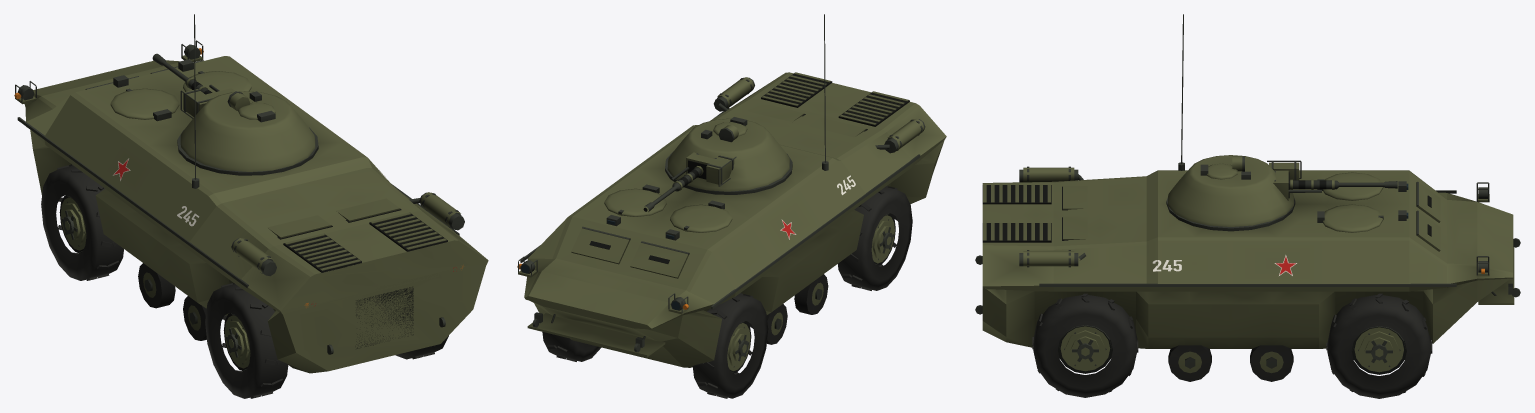
The model's file is brdm2.glb.
The picture shows the model from 3 angles, left to right: view 1: azimuth 30°, elevation 25°; view 2: azimuth 150°, elevation 25°; view 3: azimuth 270°, elevation 25°; orthographic projection. The views are drawn at different scales.
Visible parts, largest first — view 1: Hull_BRDM2_Paint, LeftTrack_Motion_BRDM2_Rubber, TurretYaw_BRDM2_Paint, Hull_BRDM2_DarkSteel, Hull_BRDM2_Cavity, LeftTrack_Motion_BRDM2_Paint, Hull_BRDM2_Rubber, LeftTrack_Motion_BRDM2_DarkSteel, GunPitch_BRDM2_Paint; view 2: Hull_BRDM2_Paint, LeftTrack_Motion_BRDM2_Rubber, TurretYaw_BRDM2_Paint, Hull_BRDM2_DarkSteel, Hull_BRDM2_Cavity, LeftTrack_Motion_BRDM2_Paint, Hull_BRDM2_Rubber, RightTrack_Motion_BRDM2_Rubber, GunPitch_BRDM2_Paint, LeftTrack_Motion_BRDM2_DarkSteel, BarrelRecoil_BRDM2_DarkSteel, TurretYaw_BRDM2_DarkSteel; view 3: Hull_BRDM2_Paint, RightTrack_Motion_BRDM2_Rubber, TurretYaw_BRDM2_Paint, Hull_BRDM2_DarkSteel, RightTrack_Motion_BRDM2_Paint, Hull_BRDM2_Cavity, Hull_BRDM2_Rubber, RightTrack_Motion_BRDM2_Cavity, RightTrack_Motion_BRDM2_DarkSteel, BarrelRecoil_BRDM2_DarkSteel.
Part boxes in pixels (<box>): Hull_BRDM2_Paint: <box>15,55,488,373</box>; LeftTrack_Motion_BRDM2_Rubber: <box>41,164,288,398</box>; TurretYaw_BRDM2_Paint: <box>180,88,315,171</box>; Hull_BRDM2_DarkSteel: <box>15,14,464,354</box>; Hull_BRDM2_Cavity: <box>277,208,447,348</box>; LeftTrack_Motion_BRDM2_Paint: <box>60,197,250,368</box>; Hull_BRDM2_Rubber: <box>138,263,206,340</box>; LeftTrack_Motion_BRDM2_DarkSteel: <box>62,196,248,370</box>; GunPitch_BRDM2_Paint: <box>183,89,210,116</box>; Hull_BRDM2_Paint: <box>518,72,946,367</box>; LeftTrack_Motion_BRDM2_Rubber: <box>692,186,912,398</box>; TurretYaw_BRDM2_Paint: <box>667,118,789,191</box>; Hull_BRDM2_DarkSteel: <box>518,14,925,352</box>; Hull_BRDM2_Cavity: <box>589,72,909,263</box>; LeftTrack_Motion_BRDM2_Paint: <box>727,215,894,370</box>; Hull_BRDM2_Rubber: <box>766,274,828,344</box>; RightTrack_Motion_BRDM2_Rubber: <box>542,332,601,361</box>; GunPitch_BRDM2_Paint: <box>706,157,734,184</box>; LeftTrack_Motion_BRDM2_DarkSteel: <box>728,214,893,372</box>; BarrelRecoil_BRDM2_DarkSteel: <box>644,167,701,211</box>; TurretYaw_BRDM2_DarkSteel: <box>701,117,747,142</box>; Hull_BRDM2_Paint: <box>982,167,1514,373</box>; RightTrack_Motion_BRDM2_Rubber: <box>1032,293,1432,398</box>; TurretYaw_BRDM2_Paint: <box>1168,155,1293,226</box>; Hull_BRDM2_DarkSteel: <box>975,14,1520,368</box>; RightTrack_Motion_BRDM2_Paint: <box>1060,326,1403,372</box>; Hull_BRDM2_Cavity: <box>982,185,1431,242</box>; Hull_BRDM2_Rubber: <box>1168,345,1293,381</box>; RightTrack_Motion_BRDM2_Cavity: <box>1058,325,1406,374</box>; RightTrack_Motion_BRDM2_DarkSteel: <box>1059,325,1405,366</box>; BarrelRecoil_BRDM2_DarkSteel: <box>1289,180,1397,189</box>.
Bounding box in the file's own units: 2.35 × 3.58 × 5.75.
8 materials, 1 textured.
